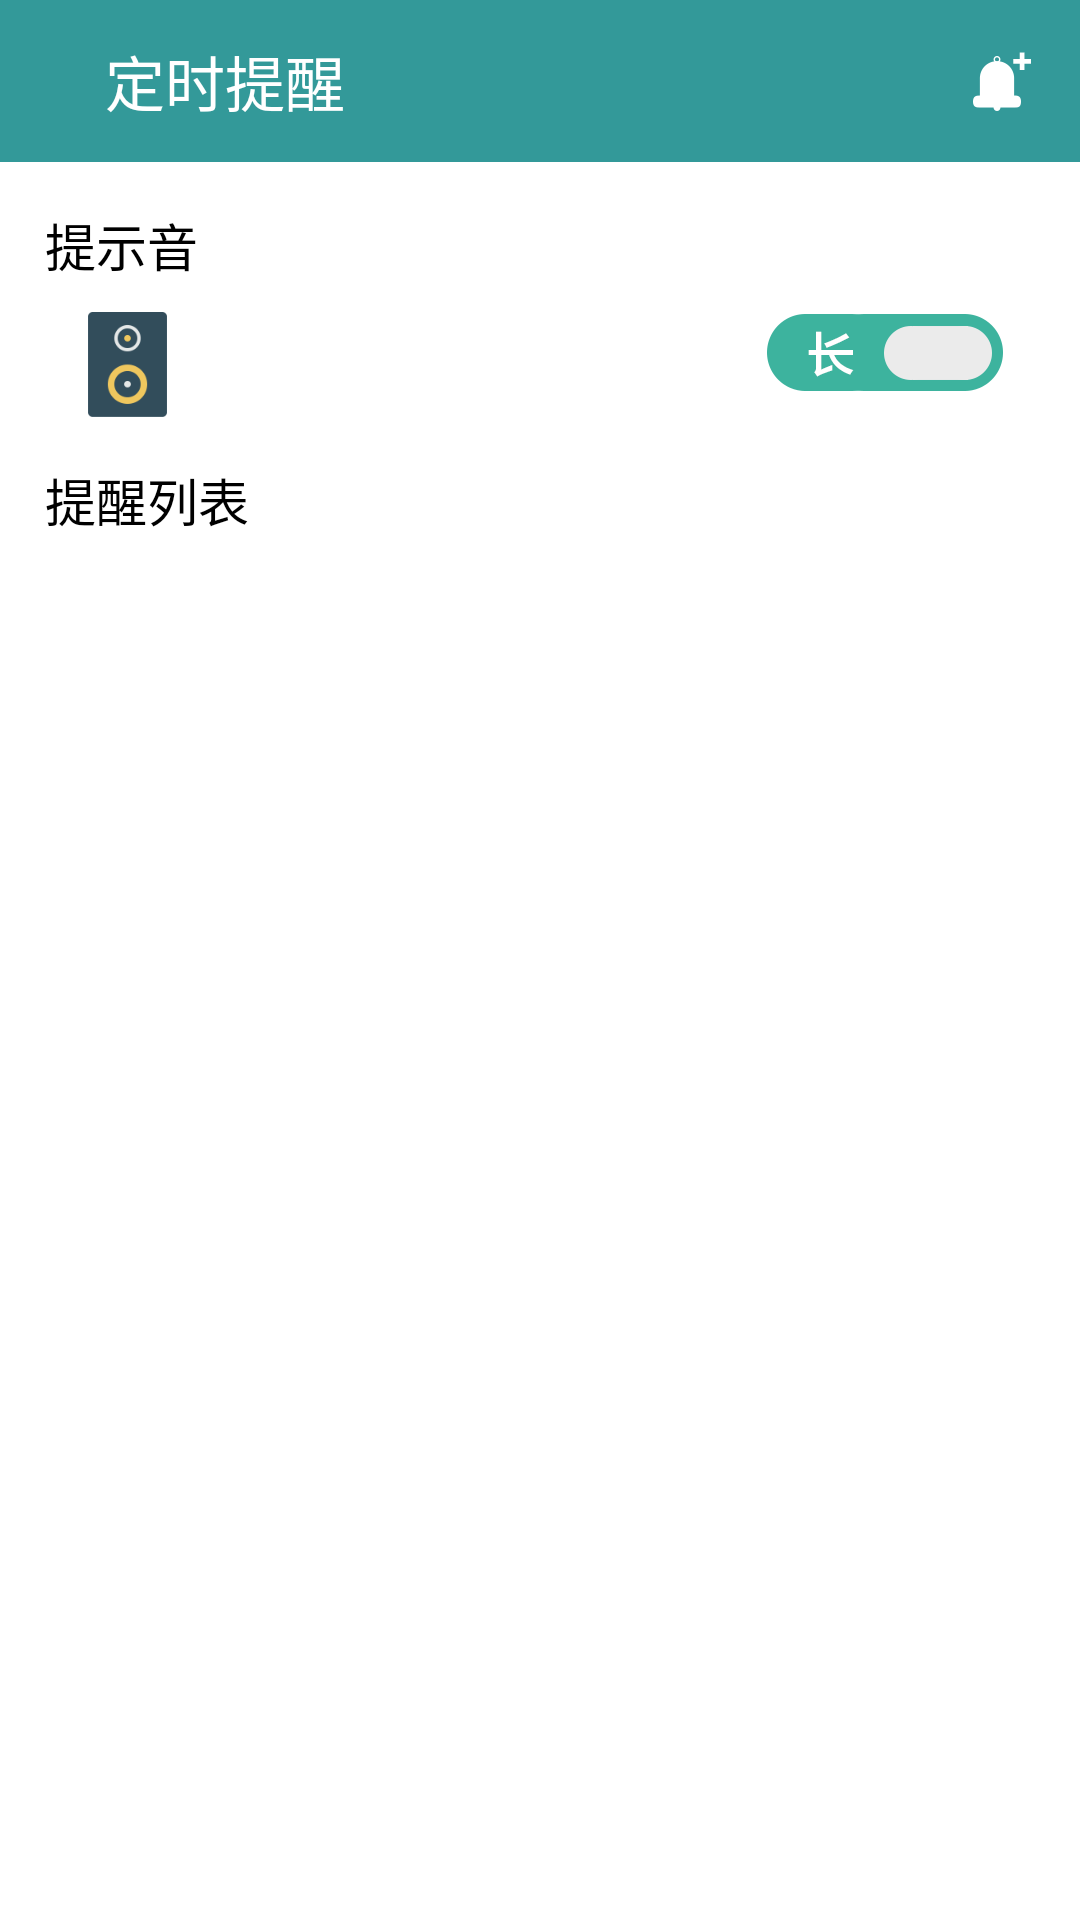

Icons on this 1080×1920 Android screen, each with its box as (x1, y1, x2, y2):
bell more: (973, 52, 1031, 111)
